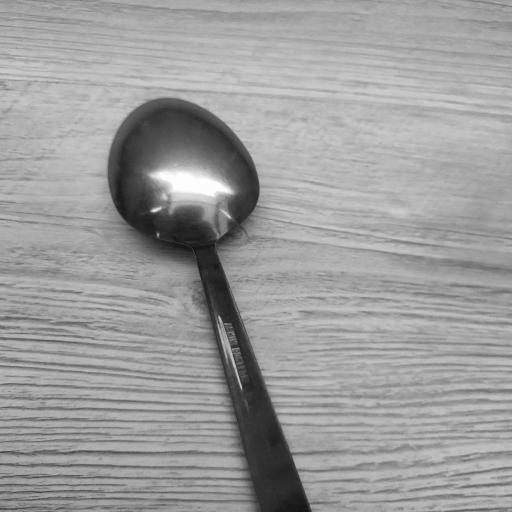spoon: (107, 97, 314, 512)
